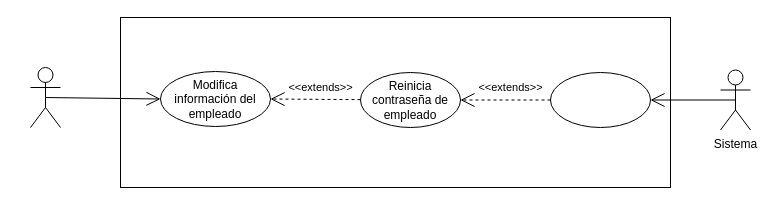
Image size: 774x205. Some labels were removed from this diagram. The centre of each missing label's shape, as x and y in pixels:
Bloqueo de acceso a empleado: (x=600, y=100)
Supervisor: (x=45, y=97)
